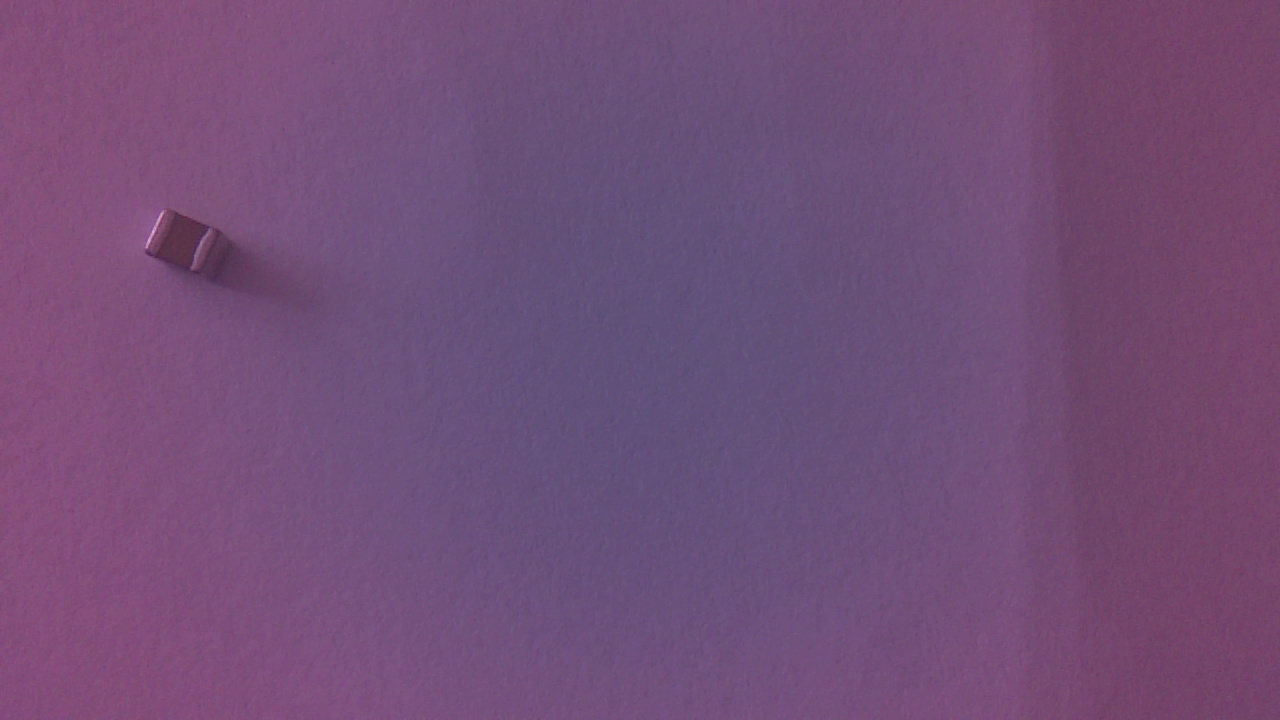Condensator: (146, 206, 243, 294)
